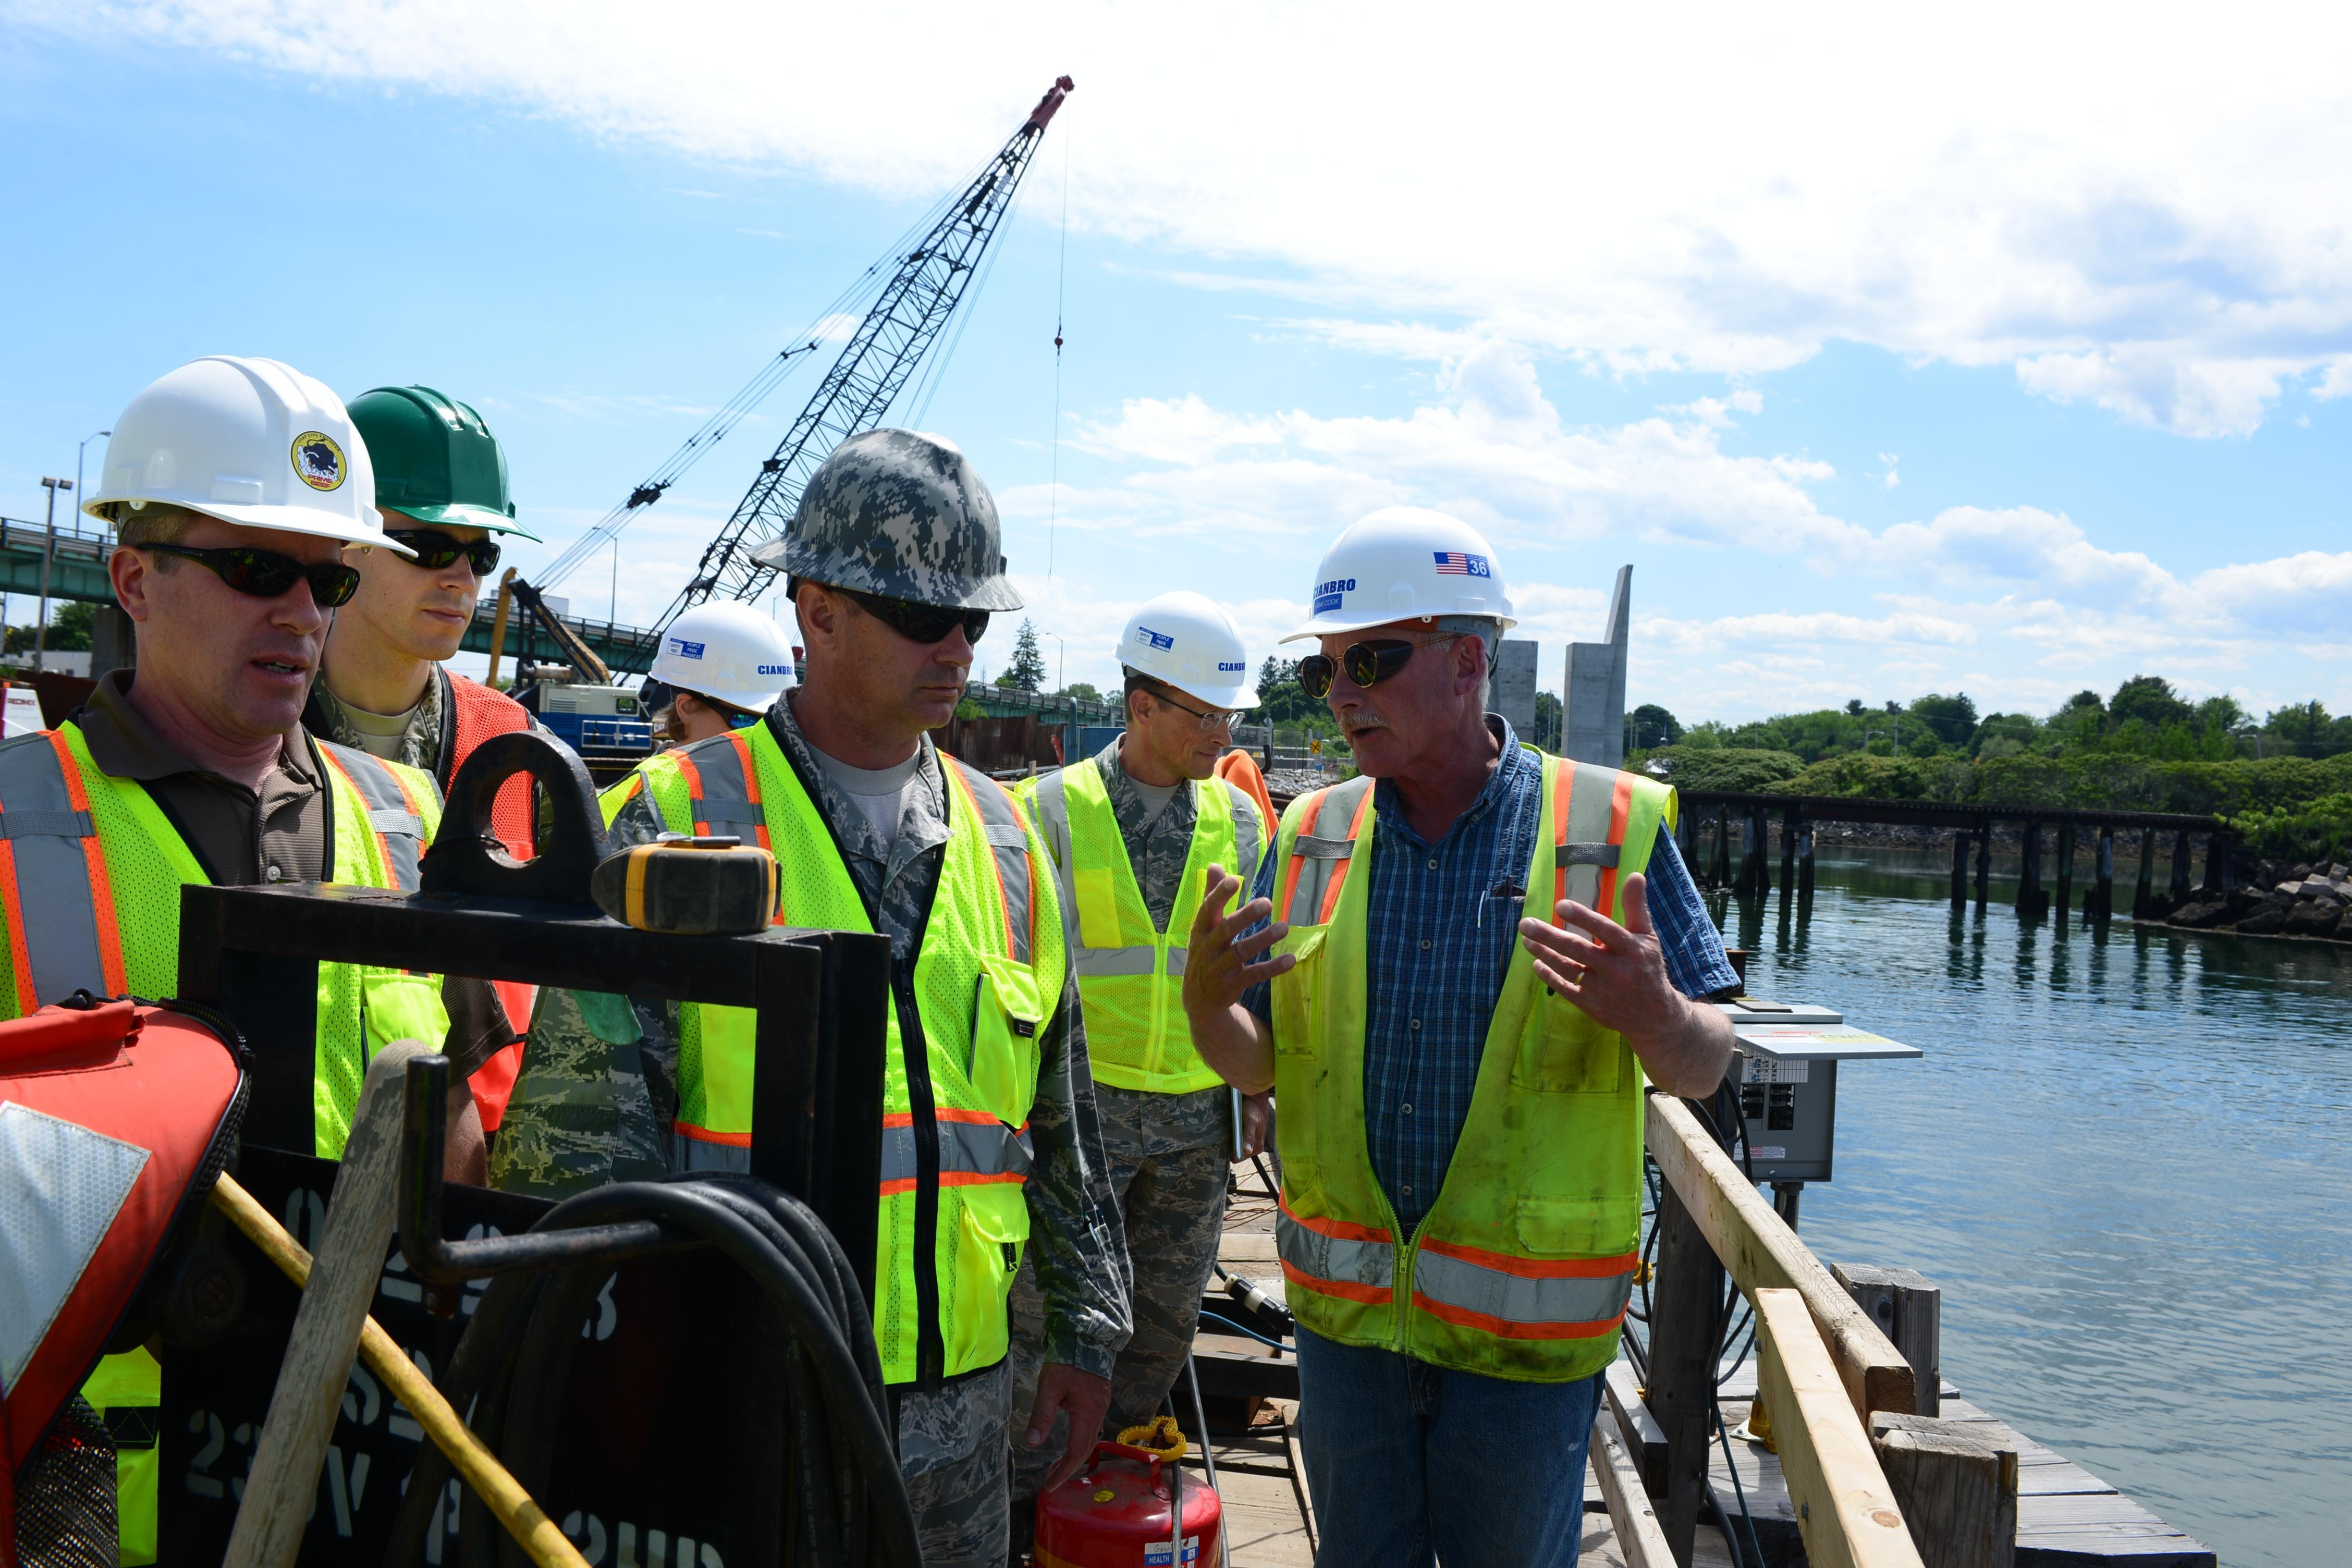vest: (12, 698, 494, 1248), (616, 718, 1059, 1297), (1253, 745, 1680, 1340), (1006, 745, 1288, 1144)
